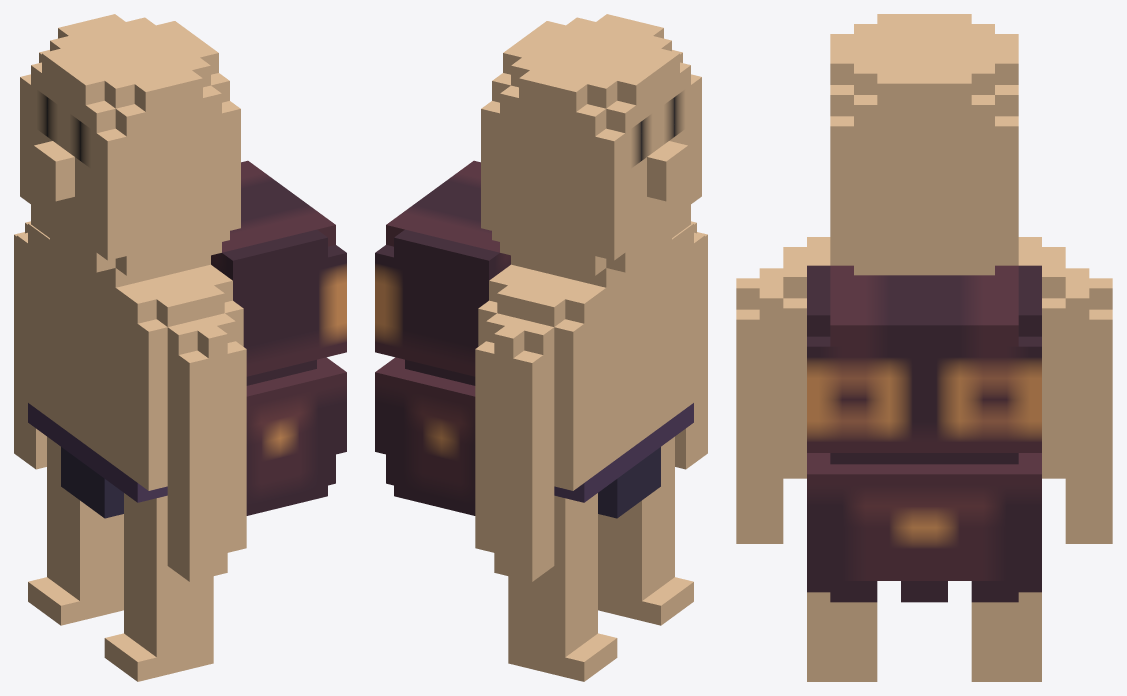
The model's file is Character_v01.fbx.
3 renders of one model, left to right at view 1: azimuth 30°, elevation 25°; view 2: azimuth 150°, elevation 25°; view 3: azimuth 270°, elevation 25°, orthographic. The views are drawn at different scales.
Visible parts, largest first — view 1: Matrix_2_part_4, Matrix_2, Matrix_2_part_6, Matrix_2_part, Matrix_2_part_2, Matrix_2_part_3, Matrix_2_part_1; view 2: Matrix_2_part_4, Matrix_2, Matrix_2_part_6, Matrix_2_part_1, Matrix_2_part_3, Matrix_2_part_2, Matrix_2_part; view 3: Matrix_2_part_6, Matrix_2_part_4, Matrix_2_part, Matrix_2_part_1, Matrix_2, Matrix_2_part_2, Matrix_2_part_3.
Part boxes in pixels (<box>): Matrix_2_part_4: <box>20,14,240,287</box>; Matrix_2: <box>17,223,243,518</box>; Matrix_2_part_6: <box>211,160,346,515</box>; Matrix_2_part: <box>167,313,246,581</box>; Matrix_2_part_2: <box>104,493,213,681</box>; Matrix_2_part_3: <box>28,436,123,625</box>; Matrix_2_part_1: <box>14,221,46,469</box>; Matrix_2_part_4: <box>481,14,701,287</box>; Matrix_2: <box>478,223,704,518</box>; Matrix_2_part_6: <box>375,160,510,515</box>; Matrix_2_part_1: <box>475,313,554,581</box>; Matrix_2_part_3: <box>508,493,617,681</box>; Matrix_2_part_2: <box>598,436,693,625</box>; Matrix_2_part: <box>675,221,707,469</box>; Matrix_2_part_6: <box>807,265,1041,602</box>; Matrix_2_part_4: <box>830,14,1018,275</box>; Matrix_2_part: <box>736,268,783,543</box>; Matrix_2_part_1: <box>1065,268,1112,543</box>; Matrix_2: <box>783,237,1065,478</box>; Matrix_2_part_2: <box>807,592,877,681</box>; Matrix_2_part_3: <box>971,592,1041,681</box>.
Size of the model in its own units: 13 by 29 by 16.
1 material, 1 textured.
